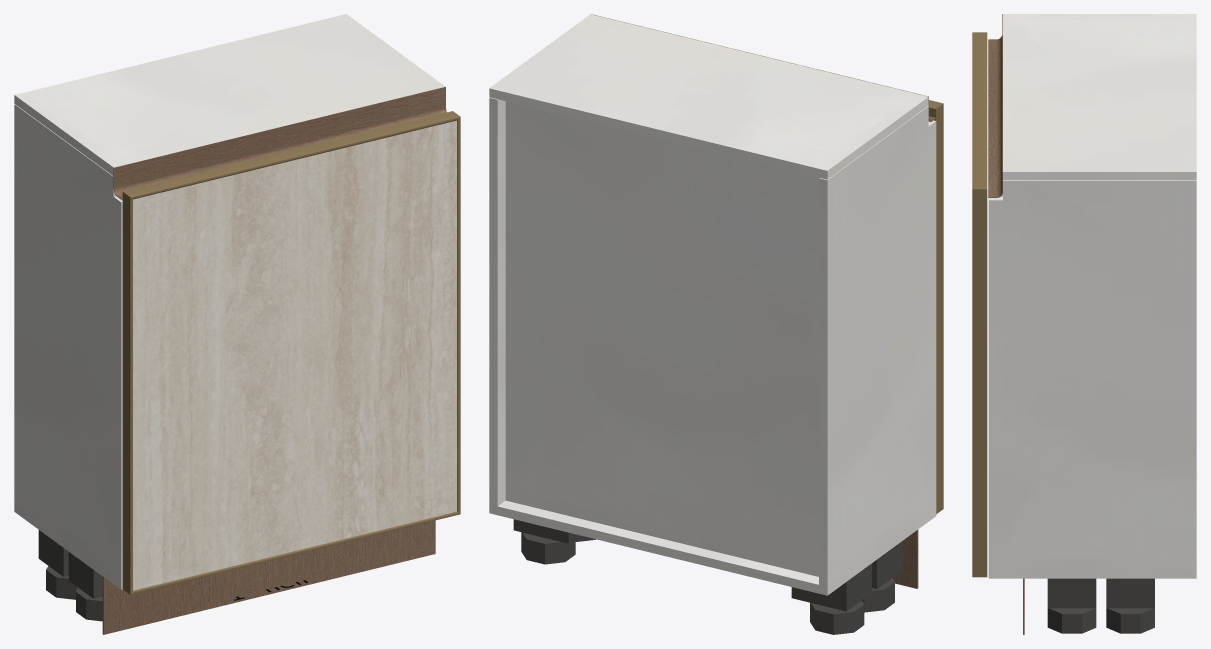
The model's file is BCL-SH-CJ-ST-1SX-LHS-XXX-600-720-336-15.glb.
3 views of the same model, side by side, from view 1: azimuth 30°, elevation 25°; view 2: azimuth 150°, elevation 25°; view 3: azimuth 270°, elevation 25° (orthographic). The views are drawn at different scales.
Parts seen in each view (by area): view 1: Object_node_11, TP_node, TP_node_1, Object_node_13, ExtrSplGeo, Extrusion_node_1, Extrusion, Extrusion_node, Extrusion_node_0, TP, Plate_node_0, Plate (+2 smaller); view 2: TP_node_3, TP_node, TP_node_1, TP_node_0, TP, Extrusion_node_1, Plate, Foot, Foot_node, Object_node_13, Plate_node_0, Plate_node (+1 smaller); view 3: TP_node_0, TP_node_1, Extrusion_node, Extrusion, ExtrSplGeo, TP, Plate_node_1, Plate_node, Foot_node_1, Foot_node.
Boxes of the visible parts, left/top/right/bottom form: Object_node_11: left=133, top=120, right=456, bottom=590; TP_node: left=14, top=104, right=122, bottom=581; TP_node_1: left=14, top=14, right=445, bottom=175; Object_node_13: left=102, top=520, right=435, bottom=634; ExtrSplGeo: left=113, top=86, right=446, bottom=200; Extrusion_node_1: left=122, top=192, right=132, bottom=594; Extrusion: left=123, top=111, right=460, bottom=199; Extrusion_node: left=457, top=117, right=460, bottom=513; Extrusion_node_0: left=130, top=511, right=459, bottom=594; TP: left=14, top=503, right=122, bottom=589; Plate_node_0: left=68, top=552, right=102, bottom=598; Plate: left=38, top=530, right=68, bottom=576; TP_node_3: left=505, top=101, right=819, bottom=576; TP_node: left=819, top=106, right=936, bottom=586; TP_node_1: left=489, top=14, right=928, bottom=179; TP_node_0: left=489, top=97, right=505, bottom=506; TP: left=489, top=500, right=936, bottom=595; Extrusion_node_1: left=929, top=104, right=943, bottom=513; Plate: left=791, top=563, right=871, bottom=611; Foot: left=810, top=600, right=864, bottom=634; Foot_node: left=521, top=532, right=575, bottom=564; Object_node_13: left=893, top=529, right=918, bottom=588; Plate_node_0: left=872, top=541, right=902, bottom=588; Plate_node: left=513, top=519, right=579, bottom=543; TP_node_0: left=988, top=180, right=1196, bottom=569; TP_node_1: left=1003, top=14, right=1196, bottom=180; Extrusion_node: left=972, top=189, right=987, bottom=577; Extrusion: left=972, top=32, right=987, bottom=189; ExtrSplGeo: left=988, top=14, right=1002, bottom=198; TP: left=988, top=570, right=1196, bottom=578; Plate_node_1: left=1047, top=578, right=1096, bottom=608; Plate_node: left=1106, top=578, right=1154, bottom=608; Foot_node_1: left=1047, top=608, right=1096, bottom=633; Foot_node: left=1106, top=608, right=1154, bottom=633.
Size of what is drawn, in the model's own units: 0.6 by 0.82 by 0.3602.
Materials: 6 (3 with a texture image).
